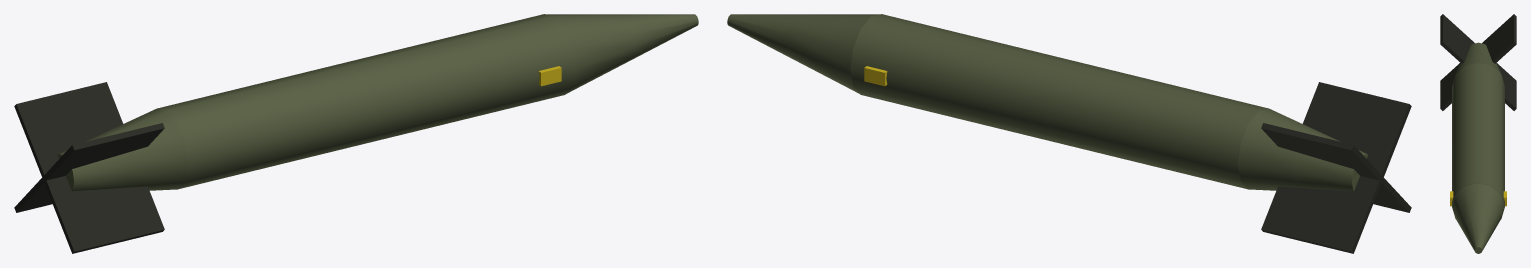
The picture shows the model from 3 angles, left to right: view 1: azimuth 30°, elevation 25°; view 2: azimuth 150°, elevation 25°; view 3: azimuth 270°, elevation 25°; orthographic projection. The views are drawn at different scales.
Visible parts, largest first — view 1: Body, Fin2, Nose, Tail, Fin; view 2: Body, Fin, Nose, Tail, Fin2; view 3: Body, Nose, Fin, Fin2, Tail, Band.
Part boxes in pixels (x1,y1,x2,y2): Body: [157, 14, 575, 189]; Fin2: [14, 82, 164, 253]; Nose: [546, 14, 698, 93]; Tail: [58, 108, 187, 191]; Fin: [14, 123, 164, 212]; Body: [850, 14, 1268, 189]; Fin: [1261, 82, 1411, 253]; Nose: [727, 14, 879, 93]; Tail: [1238, 108, 1367, 191]; Fin2: [1261, 123, 1411, 212]; Body: [1452, 62, 1504, 218]; Nose: [1452, 183, 1504, 253]; Fin: [1440, 14, 1516, 110]; Fin2: [1440, 14, 1516, 110]; Tail: [1456, 42, 1500, 73]; Band: [1450, 191, 1506, 206].
Size of the model in its own units: 2.52 by 0.4031 by 0.4031.
